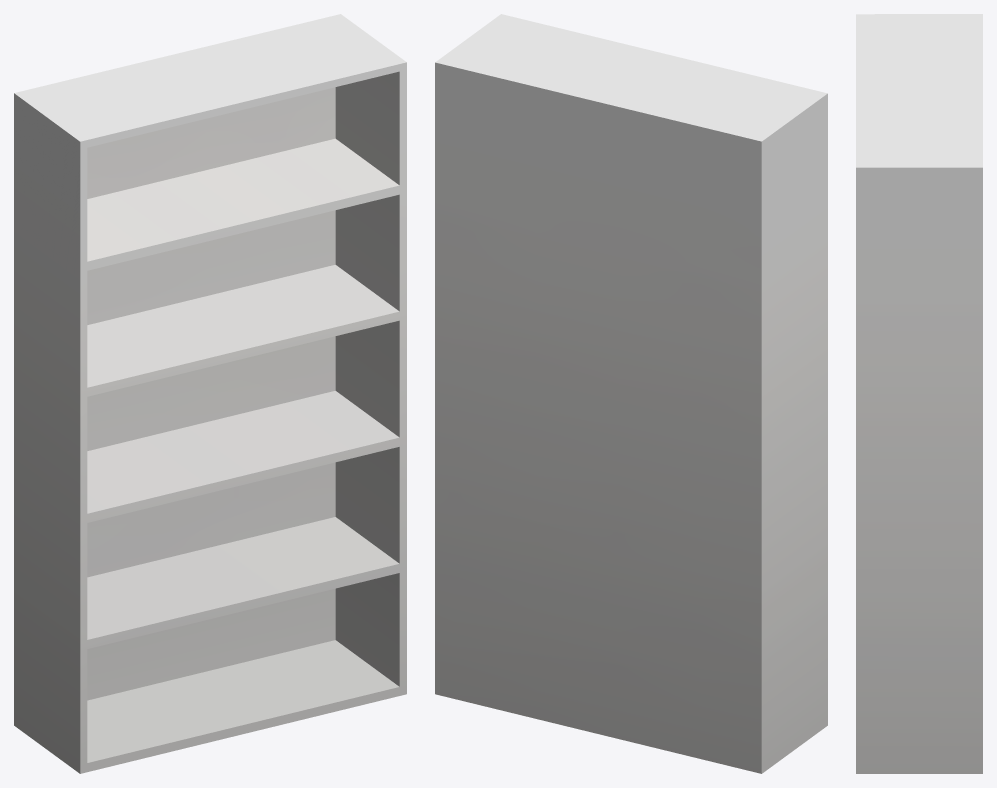
Rendered from Shelving_5Tier_White.fbx.
3 renders of one model, left to right at view 1: azimuth 30°, elevation 25°; view 2: azimuth 150°, elevation 25°; view 3: azimuth 270°, elevation 25°, orthographic. The views are drawn at different scales.
Visible parts, largest first — view 1: Shelving_5Tier_White; view 2: Shelving_5Tier_White; view 3: Shelving_5Tier_White.
Boxes of the visible parts, <box> form: Shelving_5Tier_White: <box>14,14,406,773</box>; Shelving_5Tier_White: <box>435,14,827,773</box>; Shelving_5Tier_White: <box>856,14,982,773</box>.
Bounding box in the file's own units: 103 × 190 × 36.08.
